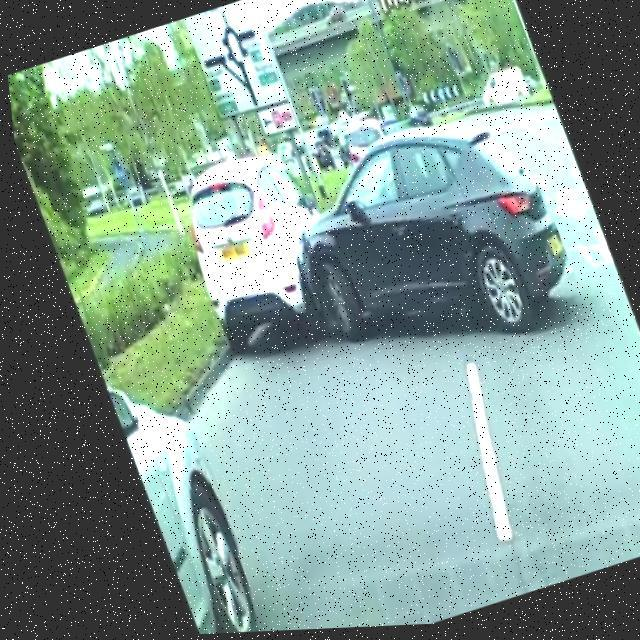Car Accident Detector - v4 Generation1 Exported: (142, 51, 590, 428)
